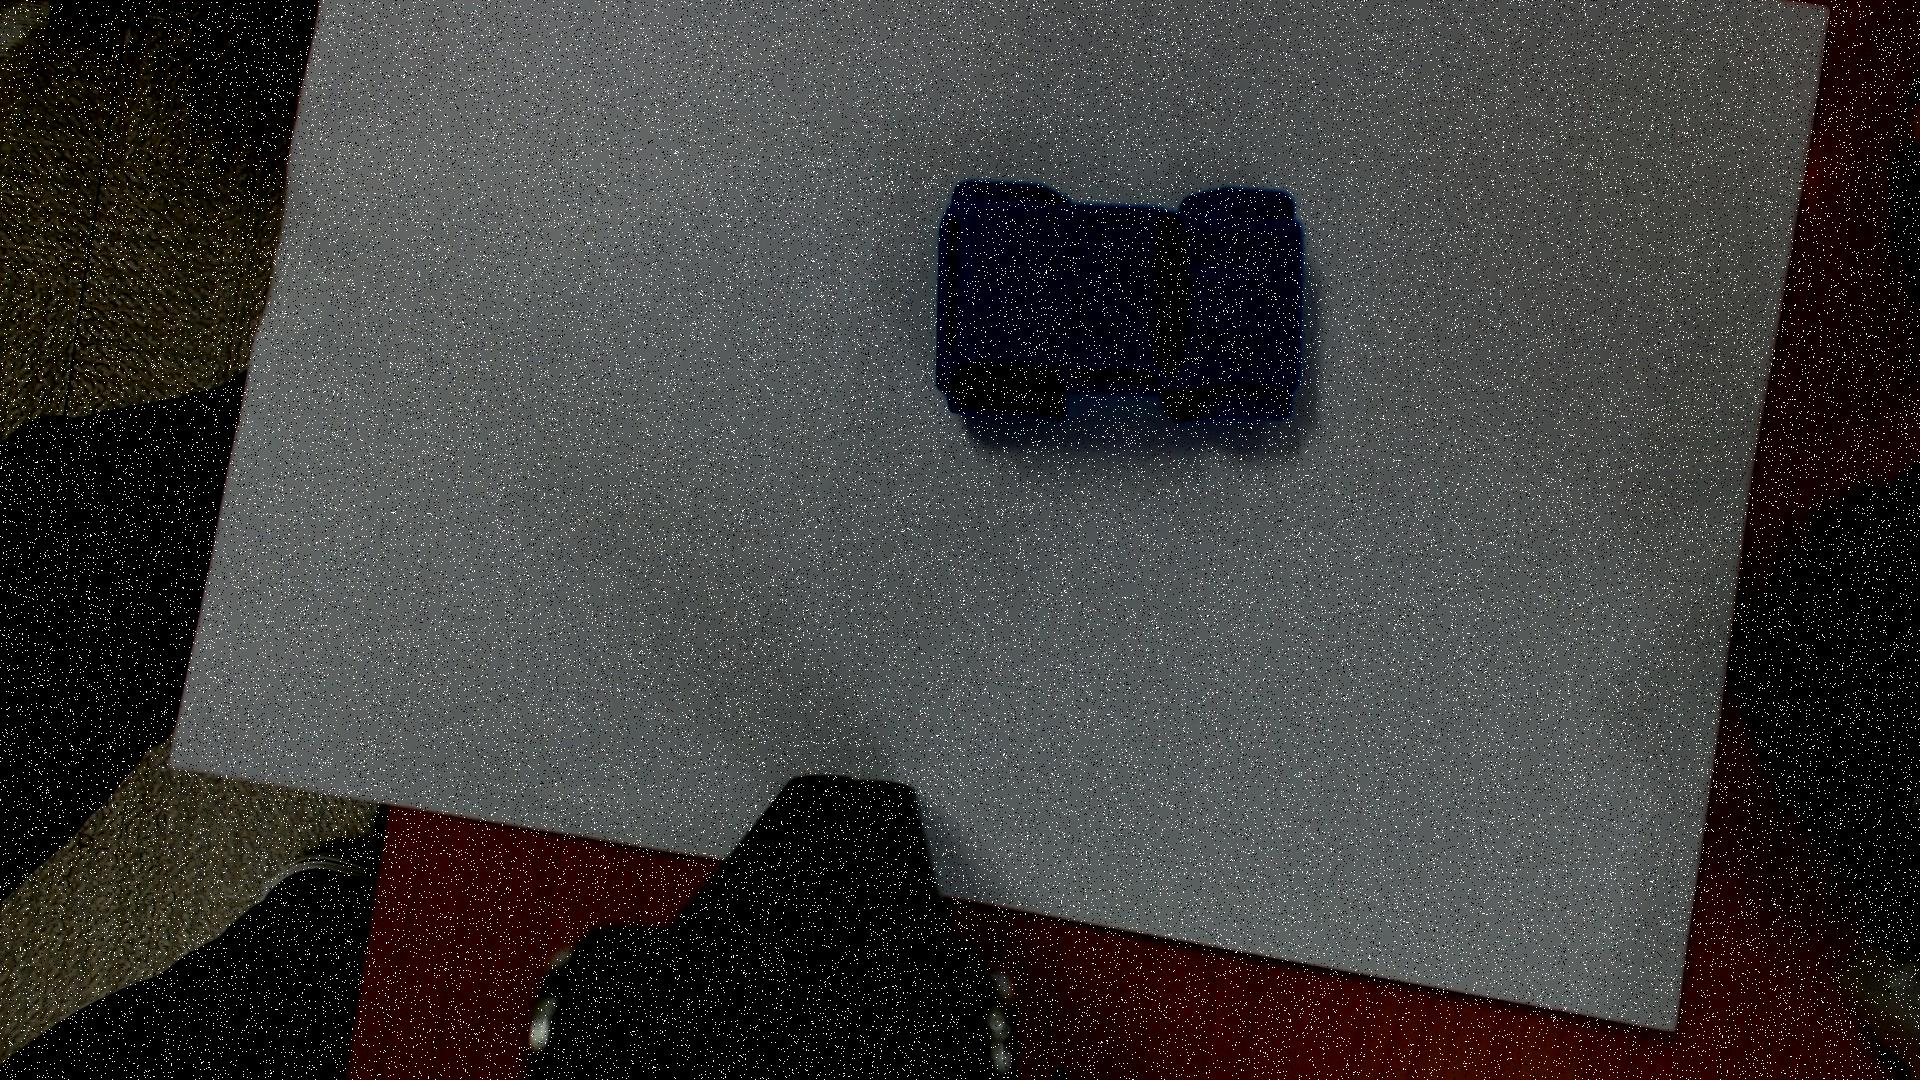Upper_ng: (936, 181, 1302, 421)
